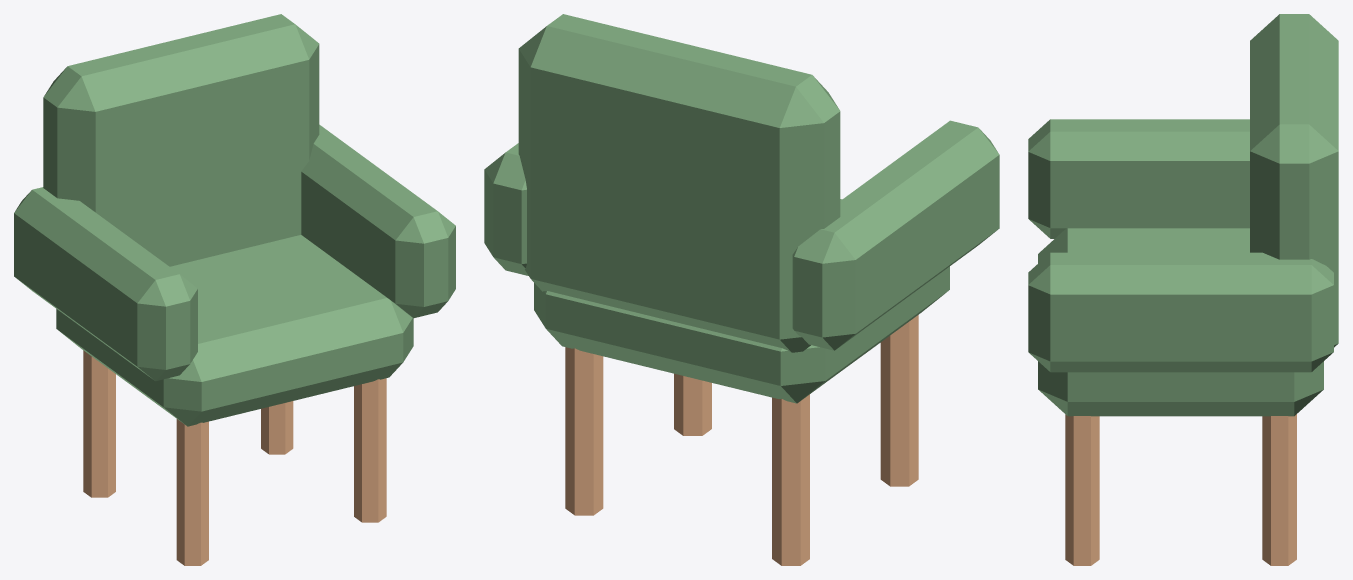
The picture shows the model from 3 angles, left to right: view 1: azimuth 30°, elevation 25°; view 2: azimuth 150°, elevation 25°; view 3: azimuth 270°, elevation 25°; orthographic projection. The views are drawn at different scales.
Parts seen in each view (by area): view 1: Back, Cushion, Arm, Arm.001, Leg, Leg.002, Leg.001, Leg.003; view 2: Back, Arm, Cushion, Leg.003, Leg.001, Leg, Arm.001, Leg.002; view 3: Arm.001, Arm, Back, Cushion, Leg.002, Leg.003.
Part boxes in pixels (box(x1,y1,x2,y2)): Back: box(43, 14, 319, 266); Cushion: box(56, 235, 413, 426); Arm: box(14, 187, 197, 381); Arm.001: box(301, 124, 455, 318); Leg: box(176, 419, 208, 565); Leg.002: box(354, 378, 386, 522); Leg.001: box(83, 350, 115, 497); Leg.003: box(261, 401, 293, 454); Back: box(518, 14, 840, 352); Arm: box(792, 120, 999, 350); Cushion: box(534, 199, 949, 403); Leg.003: box(565, 347, 603, 515); Leg.001: box(772, 394, 809, 565); Leg: box(880, 315, 918, 486); Arm.001: box(484, 143, 528, 275); Leg.002: box(674, 373, 711, 435); Arm.001: box(1028, 252, 1333, 372); Arm: box(1028, 119, 1249, 238); Back: box(1250, 14, 1338, 347); Cushion: box(1038, 228, 1323, 416); Leg.002: box(1065, 414, 1099, 565); Leg.003: box(1262, 414, 1296, 565).
Bounding box in the file's own units: 0.79 × 0.995 × 0.63.
1 material, 1 textured.
